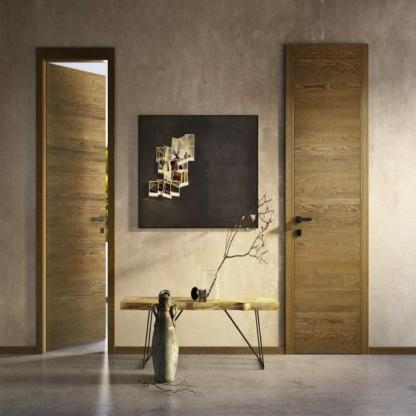door: (280, 36, 373, 363), (34, 40, 117, 365)
